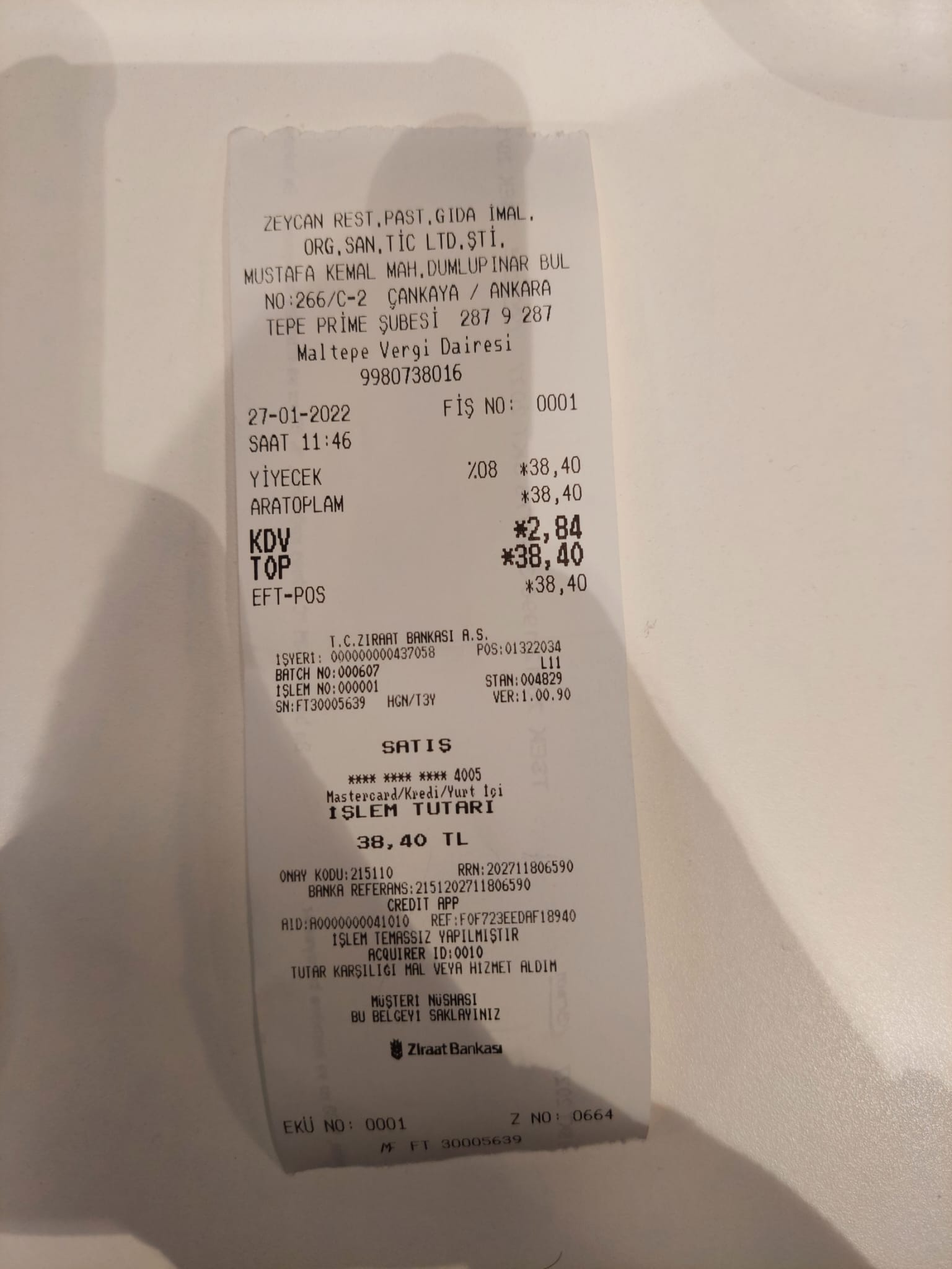date: (240, 400, 358, 428)
price: (512, 540, 596, 570)
workplace: (235, 198, 577, 309)
